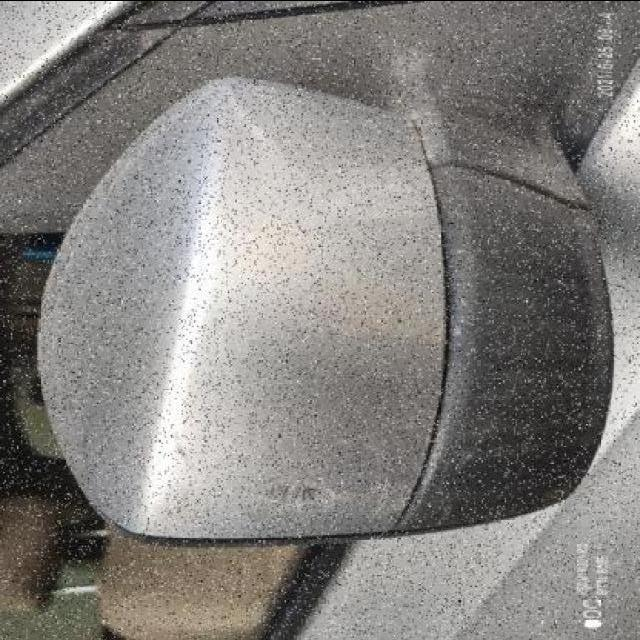Sidemirror-Damage: (23, 70, 637, 554)
